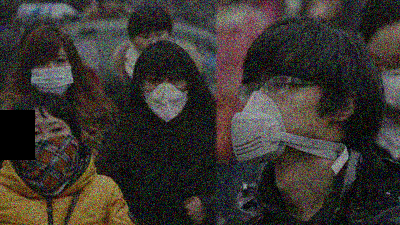with_mask: (230, 63, 344, 171), (18, 119, 83, 191), (140, 70, 191, 124), (30, 52, 74, 94), (375, 50, 400, 116)
without_mask: (133, 29, 173, 56)
